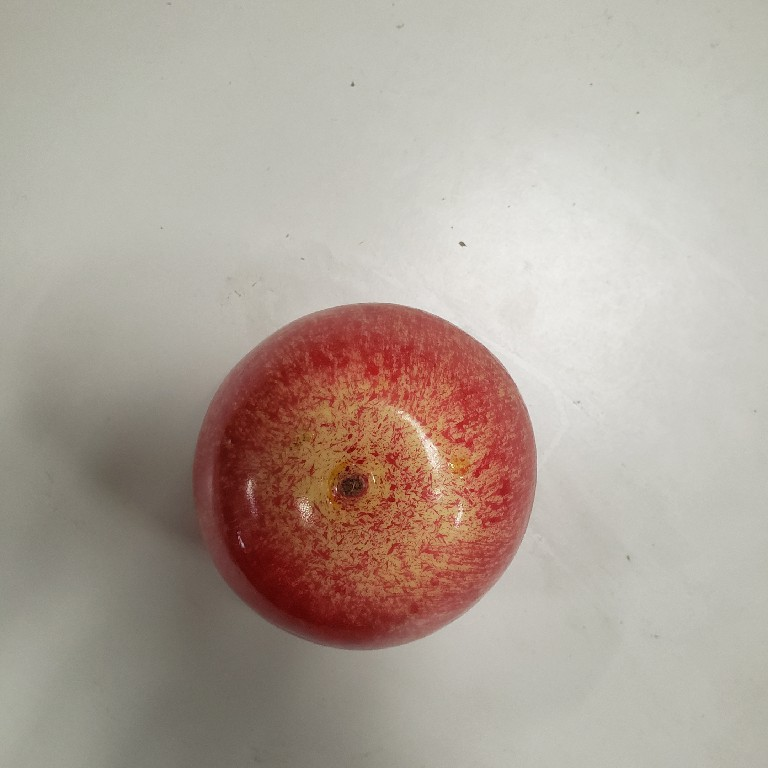fruit_apple: (189, 297, 543, 656)
